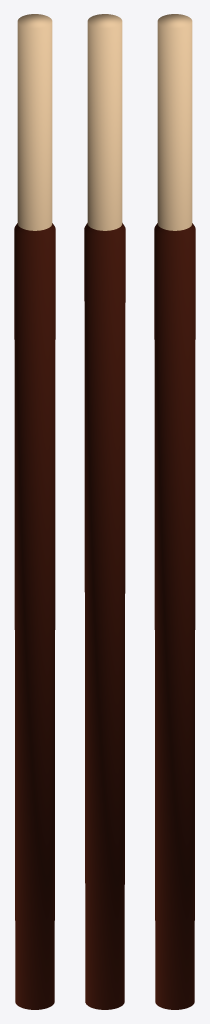
The model's file is pocky_1.fbx.
3 renders of one model, left to right at view 1: azimuth 90°, elevation 25°; view 2: azimuth 210°, elevation 25°; view 3: azimuth 270°, elevation 25°, orthographic.
Parts seen in each view (by area): view 1: 円柱.003; view 2: 円柱.003; view 3: 円柱.003.
Boxes of the visible parts, x1,y1,x2,y2 form: 円柱.003: (14, 14, 55, 1009); 円柱.003: (84, 14, 125, 1009); 円柱.003: (154, 14, 195, 1009).
Size of the model in its own units: 1.72 by 45.14 by 1.72.
